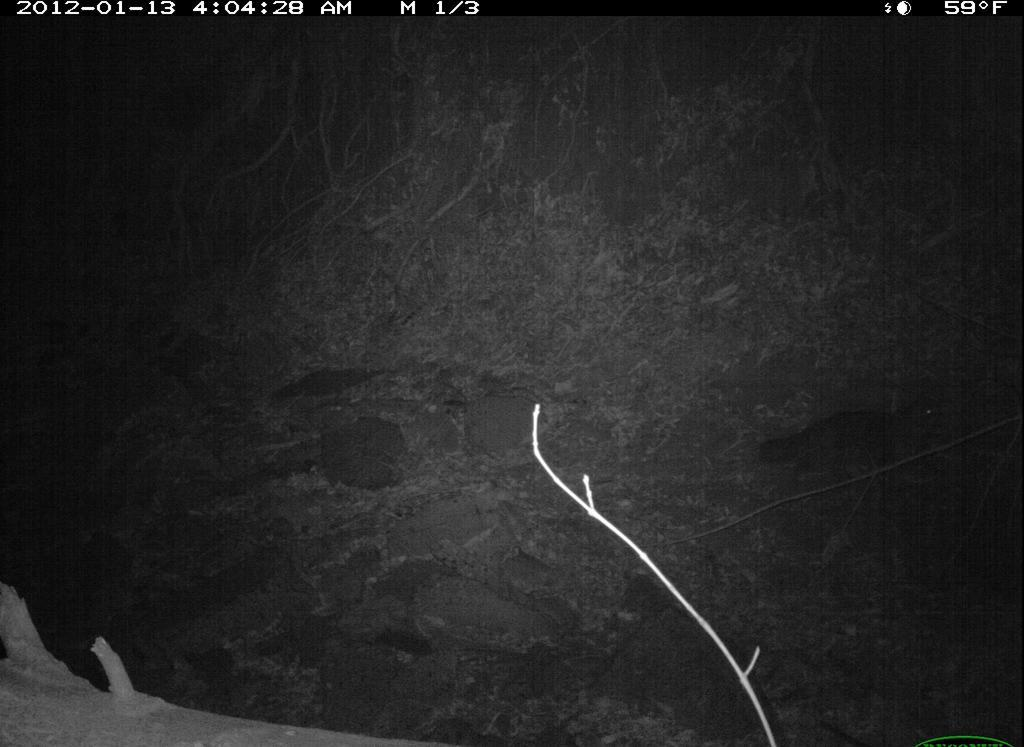cat: (747, 392, 957, 514)
